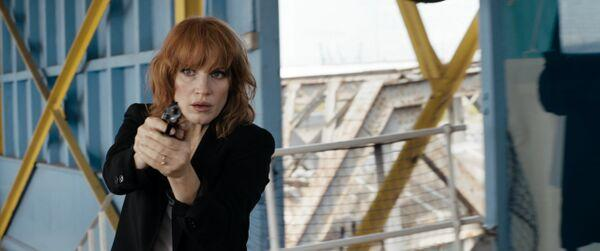Gun: (162, 102, 181, 137)
